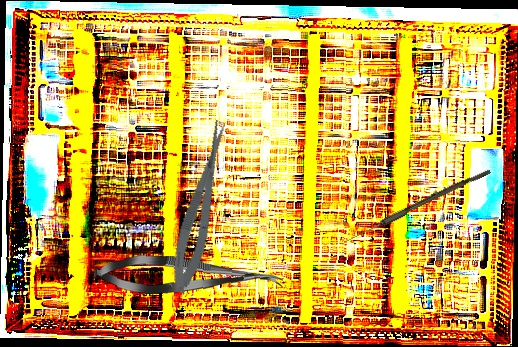Micro Scissor: (163, 118, 239, 296), (93, 253, 284, 299)
Surgical Spoon: (343, 165, 491, 247)
